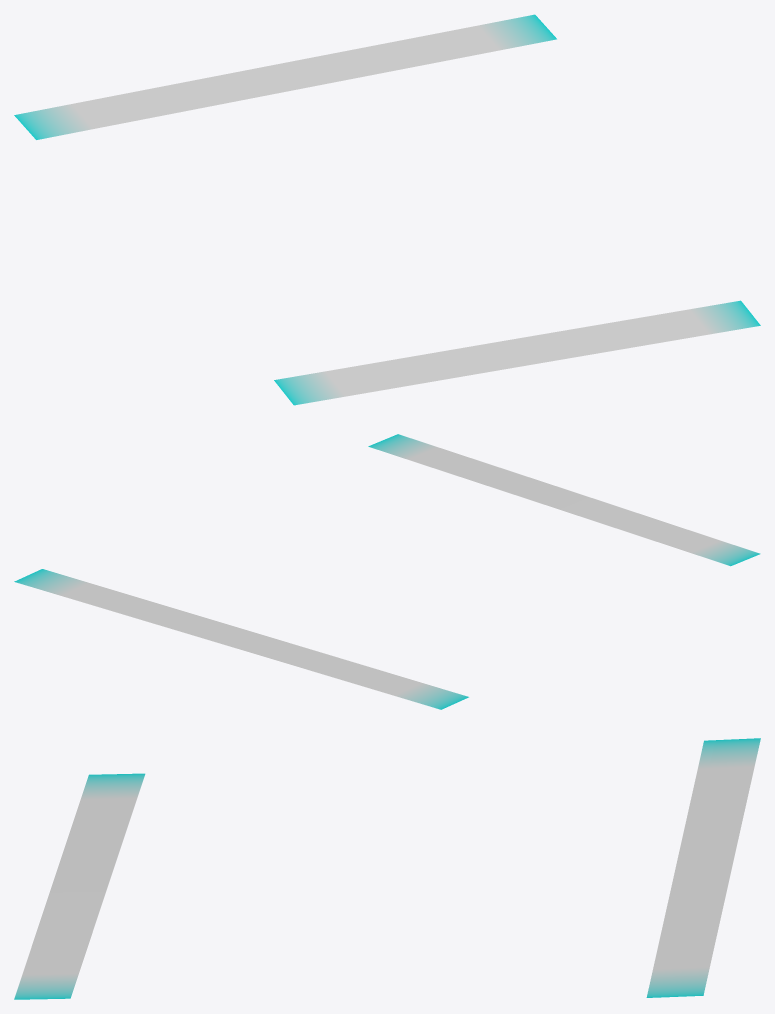
The picture shows the model from 3 angles, top to bottom: view 1: azimuth 30°, elevation 25°; view 2: azimuth 150°, elevation 25°; view 3: azimuth 270°, elevation 25°; orthographic projection. The views are drawn at different scales.
Visible parts, largest first — view 1: SpaceCenter_Long3_GenerateRoad_Asphalt_PCGMesh_Decal_Mesh_x9; view 2: SpaceCenter_Long3_GenerateRoad_Asphalt_PCGMesh_Decal_Mesh_x9; view 3: SpaceCenter_Long3_GenerateRoad_Asphalt_PCGMesh_Decal_Mesh_x9.
Part boxes in pixels (x1,y1,x2,y2): SpaceCenter_Long3_GenerateRoad_Asphalt_PCGMesh_Decal_Mesh_x9: (14,14,760,405); SpaceCenter_Long3_GenerateRoad_Asphalt_PCGMesh_Decal_Mesh_x9: (14,434,760,709); SpaceCenter_Long3_GenerateRoad_Asphalt_PCGMesh_Decal_Mesh_x9: (14,738,760,999).
Size of the model in its own units: 470 by 411 by 38.06.
